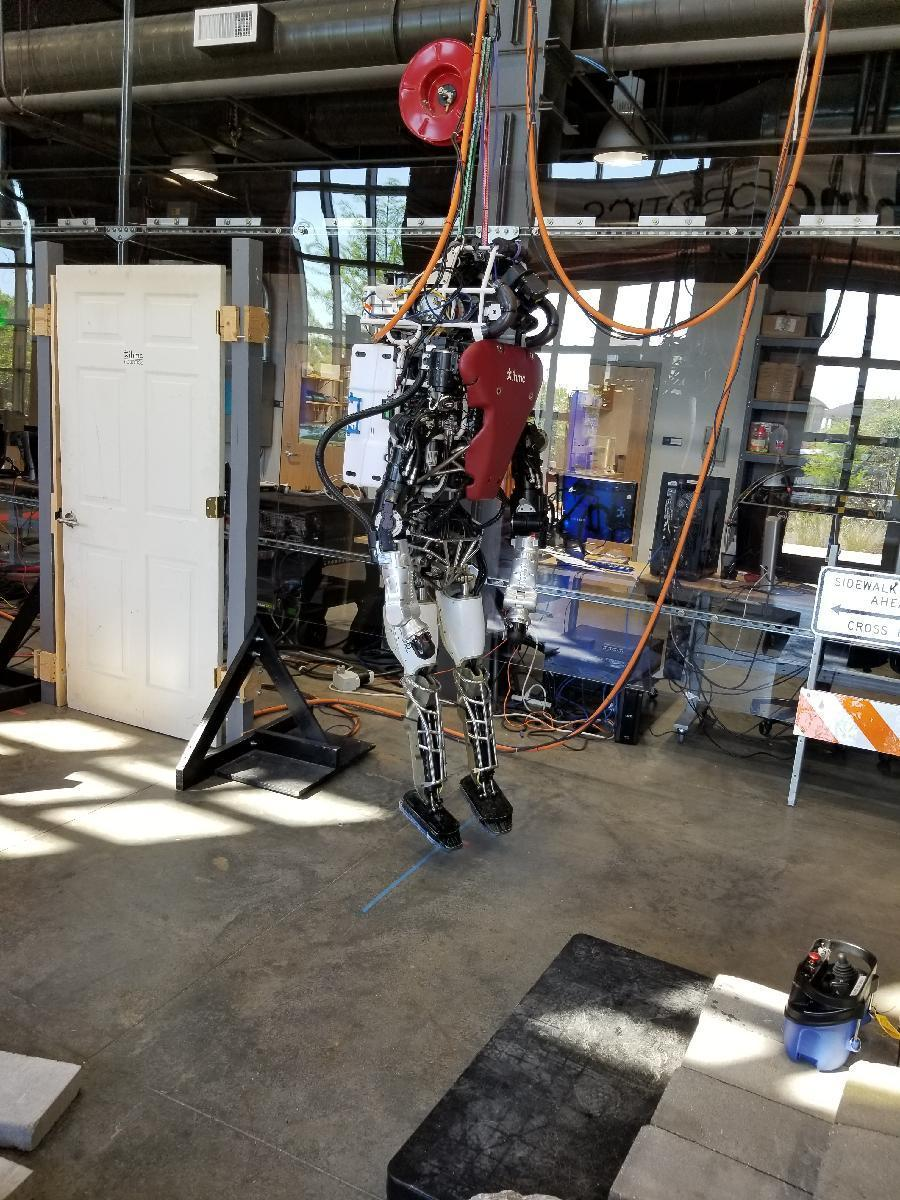door: (58, 266, 233, 746)
